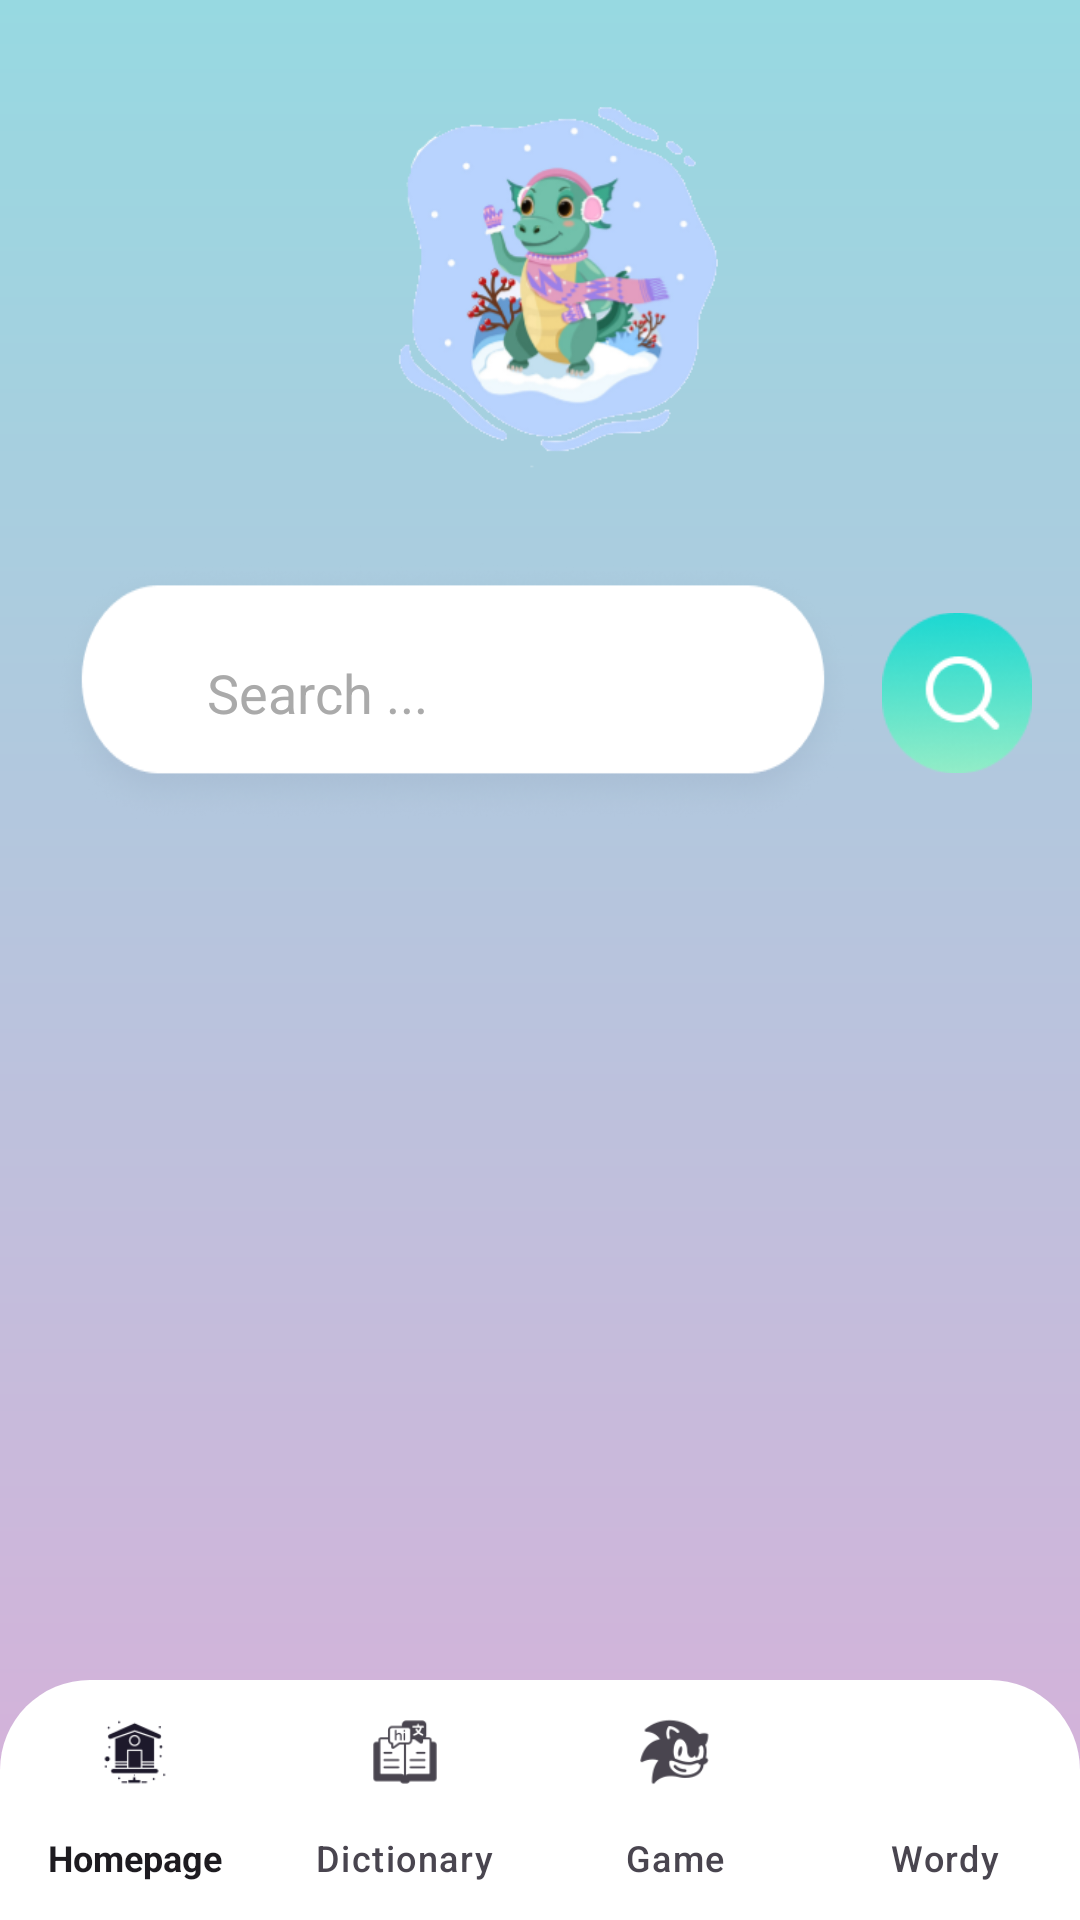

Icons on this 1080*1920 Android screen, each with its box as (x1, y1, x2, y2):
character: (399, 107, 718, 451)
